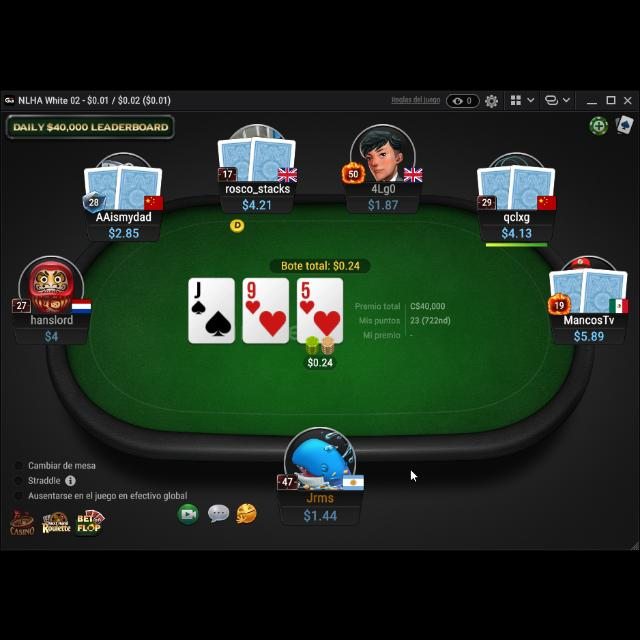5h: (299, 276, 315, 314)
9h: (244, 278, 262, 314)
Js: (190, 276, 208, 314)
bet_text: (306, 354, 334, 366)
card_back: (114, 160, 164, 210), (579, 262, 629, 312), (507, 159, 557, 209), (248, 132, 298, 180), (547, 264, 591, 312), (82, 160, 125, 208), (476, 160, 518, 208), (216, 133, 258, 179)
dealer: (228, 213, 246, 230)
pot_text: (282, 257, 362, 269)
stack_text: (302, 504, 338, 520), (108, 222, 140, 238), (572, 325, 606, 339), (366, 194, 399, 208), (501, 222, 533, 236), (242, 194, 272, 208), (44, 326, 60, 339)
